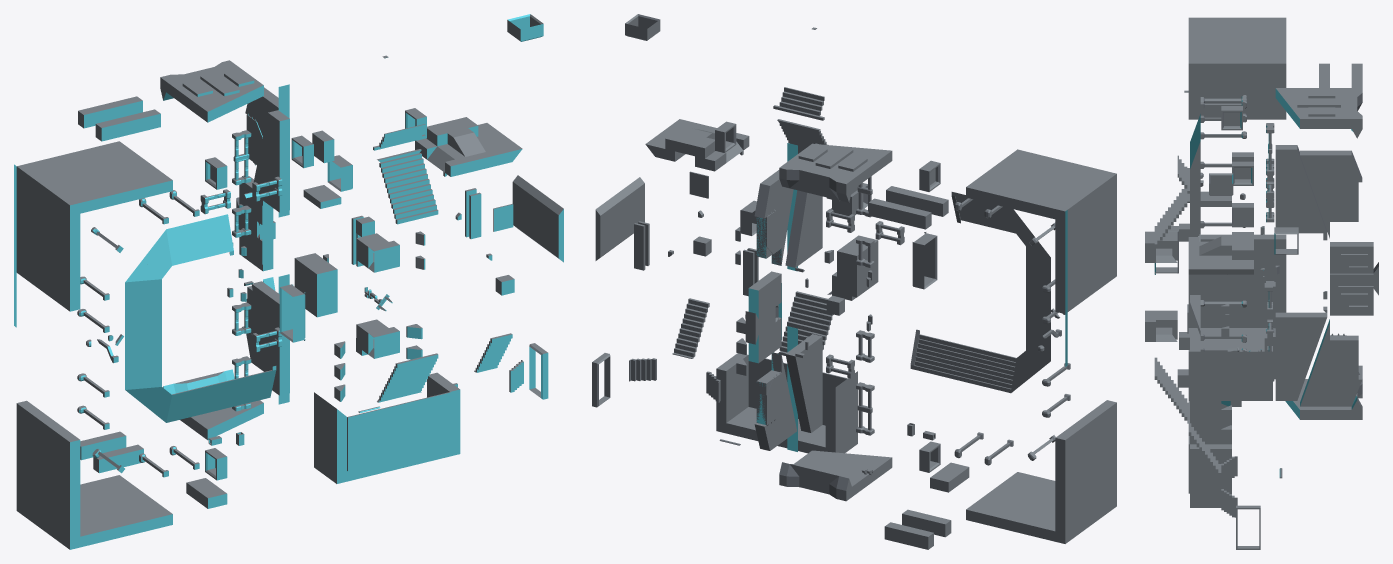
File: glowplant.glb
3 views of the same model, side by side, from view 1: azimuth 30°, elevation 25°; view 2: azimuth 150°, elevation 25°; view 3: azimuth 270°, elevation 25° (orthographic). The views are drawn at different scales.
Parts seen in each view (by area): view 1: Map_glowplant; view 2: Map_glowplant; view 3: Map_glowplant.
Part boxes in pixels (x1,y1,x2,y2): Map_glowplant: [14, 14, 563, 549]; Map_glowplant: [592, 14, 1116, 549]; Map_glowplant: [1145, 17, 1378, 549].
Size of the model in its own units: 98.5 by 77.5 by 43.
